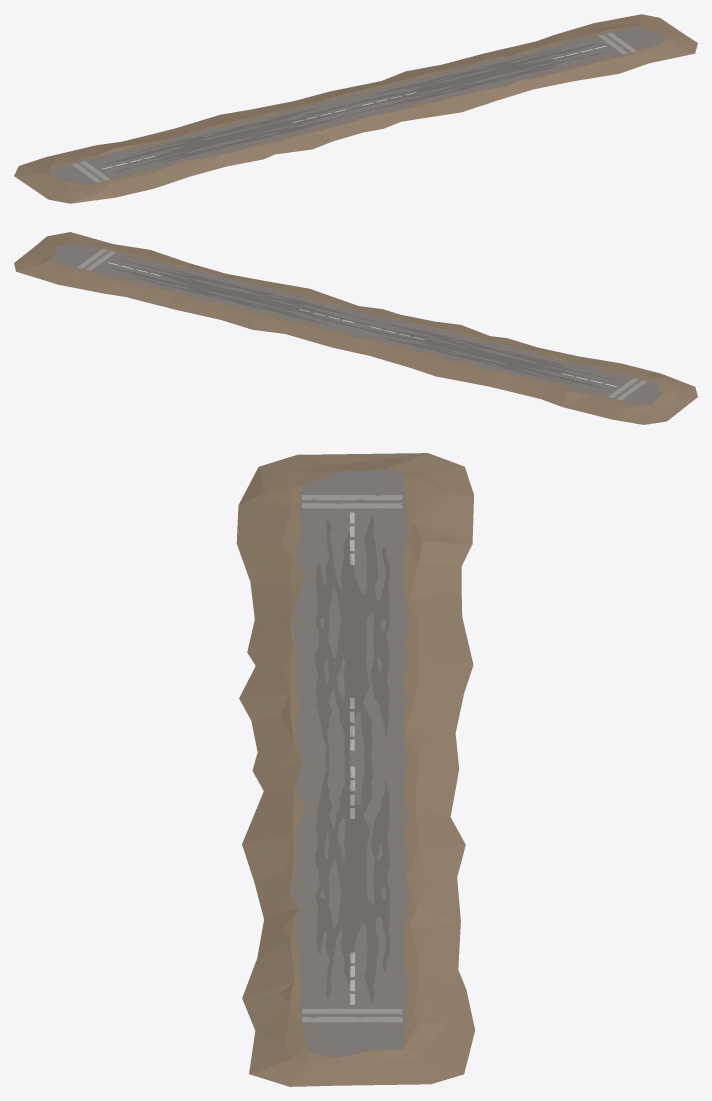
Rendered from SM_Env_Runway_01.fbx.
3 renders of one model, top to bottom at view 1: azimuth 30°, elevation 25°; view 2: azimuth 150°, elevation 25°; view 3: azimuth 270°, elevation 25°, orthographic. The views are drawn at different scales.
Parts seen in each view (by area): view 1: SM_Env_Runway_01; view 2: SM_Env_Runway_01; view 3: SM_Env_Runway_01.
Boxes of the visible parts, x1,y1,x2,y2 form: SM_Env_Runway_01: [14, 14, 697, 203]; SM_Env_Runway_01: [14, 232, 697, 424]; SM_Env_Runway_01: [236, 453, 475, 1086].
Bounding box in the file's own units: 20934 × 148 × 3329.
